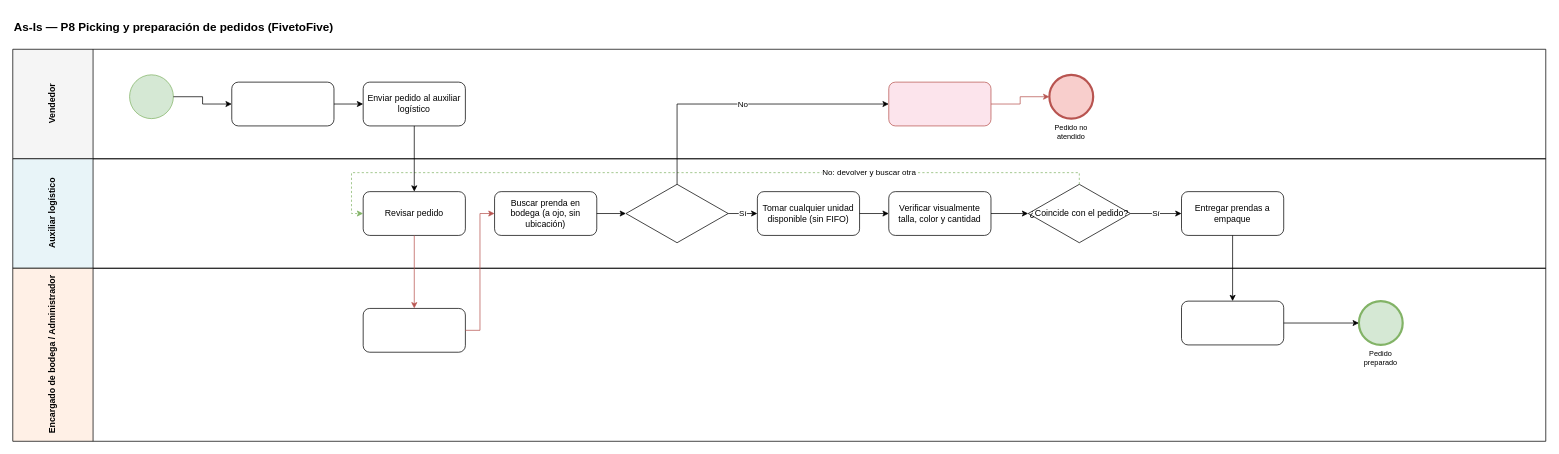
This 1559x454 diagram has some shape labels left out. The shapes that lost their labels are listed below. From the top down, each one's centre as x and y in pixels, then its label:
At (x=151, y=96): "Pedido recibido (WhatsApp / redes)".
At (x=282, y=103): "Registrar pedido manualmente en excel".
At (x=939, y=103): "Informar al cliente que no hay existencia".
At (x=676, y=213): "¿Prenda encontrada?".
At (x=413, y=330): "Consultar existencia en hoja de cálculo".
At (x=1232, y=322): "Descontar unidades en hoja de cálculo (manual)".
